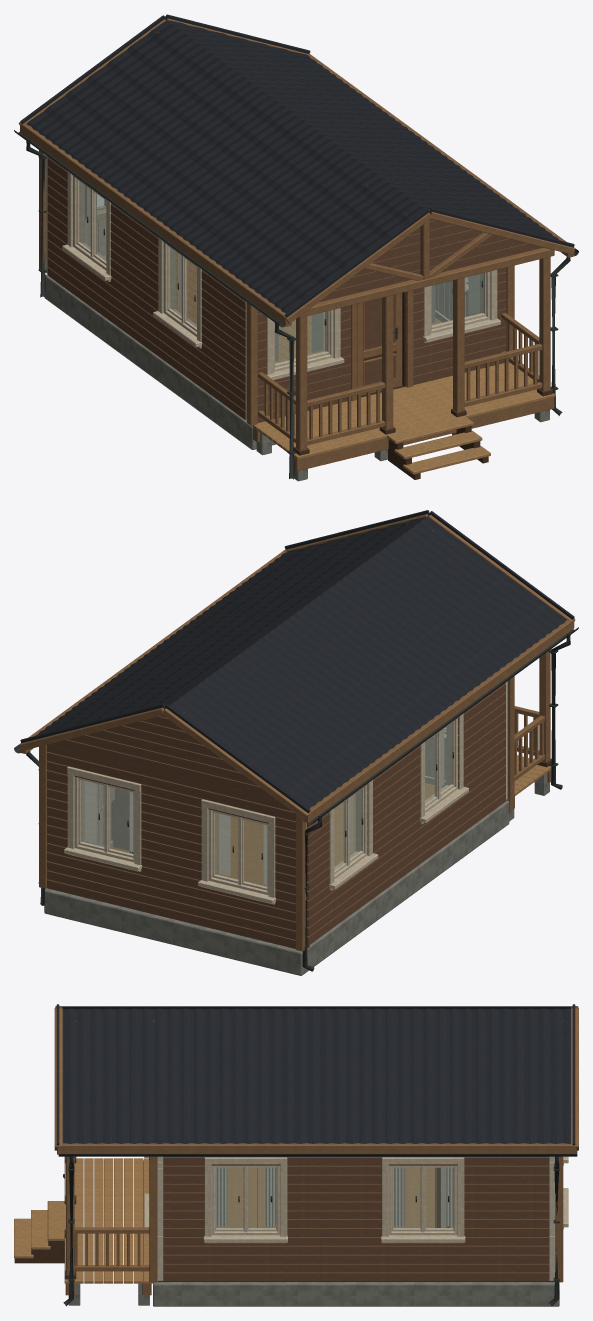
File: cabin_shell.glb
3 views of the same model, one above another, from view 1: azimuth 30°, elevation 25°; view 2: azimuth 150°, elevation 25°; view 3: azimuth 270°, elevation 25° (orthographic). The views are drawn at different scales.
Parts seen in each view (by area): view 1: Roof_and_gables.001, Porch.001, Wall_with_openings.006, Wall_with_openings.004, Floor.001, Window_frame_glazing.005, Window_frame_glazing.006, Window_frame_glazing.002, Gutters.001, Window_frame_glazing.001, Door_Leaf.001, Door_frame.001 (+7 smaller); view 2: Roof_and_gables.001, Wall_with_openings.005, Wall_with_openings.006, Floor.001, Window_frame_glazing.003, Window_frame_glazing.004, Porch.001, Window_frame_glazing.005, Window_frame_glazing.006, Gutters.001, Corner_trim.001, Corner_trim.003 (+6 smaller); view 3: Roof_and_gables.001, Wall_with_openings.007, Floor.001, Porch.001, Window_frame_glazing.007, Window_frame_glazing.008, Gutters.001, Curtains.007, Curtains.008, Corner_trim.002, Corner_trim.003, Wall_with_openings.004 (+2 smaller).
Part boxes in pixels (<box>): Roof_and_gables.001: <box>18,14,575,326</box>; Porch.001: <box>252,256,554,481</box>; Wall_with_openings.006: <box>47,156,246,419</box>; Wall_with_openings.004: <box>257,267,506,422</box>; Floor.001: <box>44,252,441,449</box>; Window_frame_glazing.005: <box>62,170,111,281</box>; Window_frame_glazing.006: <box>153,237,202,348</box>; Window_frame_glazing.002: <box>422,270,500,343</box>; Gutters.001: <box>14,130,578,479</box>; Window_frame_glazing.001: <box>266,308,344,380</box>; Door_Leaf.001: <box>358,293,402,395</box>; Door_frame.001: <box>351,290,413,401</box>; Roof_and_gables.001: <box>18,510,575,822</box>; Wall_with_openings.005: <box>47,744,295,948</box>; Wall_with_openings.006: <box>306,682,505,945</box>; Floor.001: <box>44,783,509,975</box>; Window_frame_glazing.003: <box>198,799,276,904</box>; Window_frame_glazing.004: <box>64,766,142,871</box>; Porch.001: <box>444,650,551,821</box>; Window_frame_glazing.005: <box>329,779,378,890</box>; Window_frame_glazing.006: <box>419,713,468,824</box>; Gutters.001: <box>14,627,578,971</box>; Corner_trim.001: <box>296,814,306,951</box>; Corner_trim.003: <box>39,745,47,888</box>; Roof_and_gables.001: <box>54,1004,578,1154</box>; Wall_with_openings.007: <box>163,1156,549,1281</box>; Floor.001: <box>153,1167,559,1306</box>; Porch.001: <box>14,1156,152,1305</box>; Window_frame_glazing.007: <box>203,1157,287,1243</box>; Window_frame_glazing.008: <box>381,1157,465,1243</box>; Gutters.001: <box>58,1151,577,1306</box>; Curtains.007: <box>216,1167,275,1227</box>; Curtains.008: <box>393,1167,453,1227</box>; Corner_trim.002: <box>149,1156,157,1282</box>; Corner_trim.003: <box>555,1156,563,1282</box>; Wall_with_openings.004: <box>157,1156,163,1280</box>.
Size of the model in its own units: 5.81 by 4.57 by 9.72.
12 materials, 12 textured.
